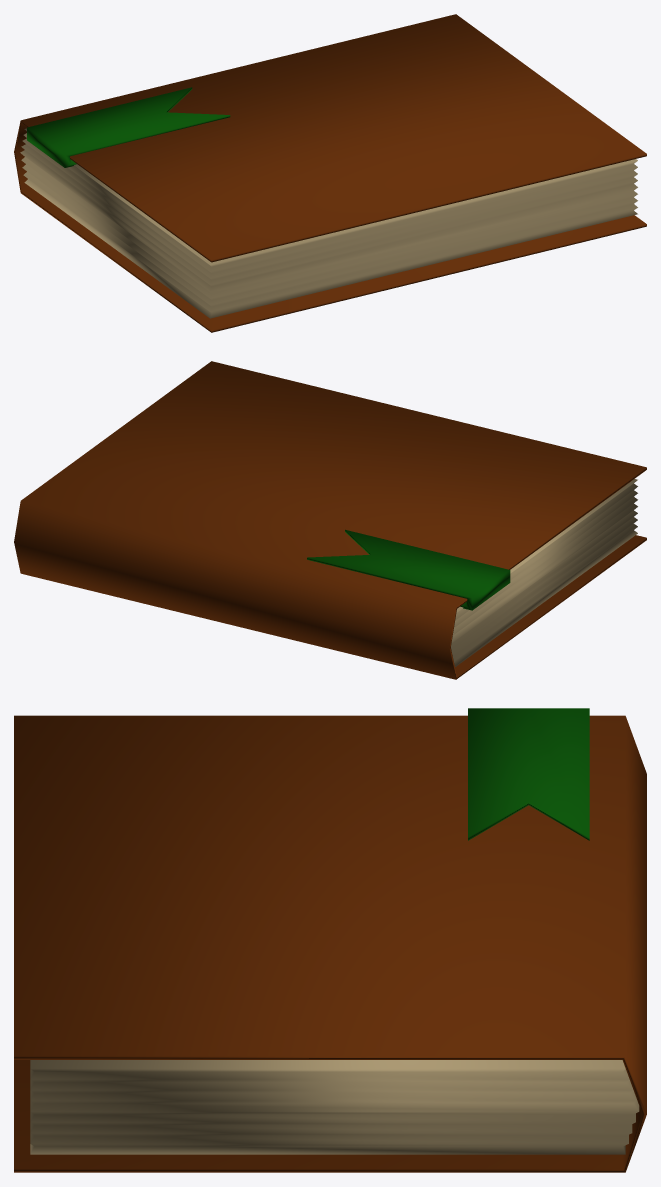
Rendered from CAPTAIN_BOOK_CLOSED.fbx.
3 renders of one model, top to bottom at view 1: azimuth 30°, elevation 25°; view 2: azimuth 150°, elevation 25°; view 3: azimuth 270°, elevation 25°, orthographic. The views are drawn at different scales.
Parts seen in each view (by area): view 1: BOOK_1_CLOSED; view 2: BOOK_1_CLOSED; view 3: BOOK_1_CLOSED.
Part boxes in pixels (x1=…): BOOK_1_CLOSED: x1=14, y1=14, x2=646, y2=332; BOOK_1_CLOSED: x1=14, y1=361, x2=646, y2=679; BOOK_1_CLOSED: x1=14, y1=708, x2=646, y2=1172.
Size of the model in its own units: 29.38 by 4.78 by 22.83.
